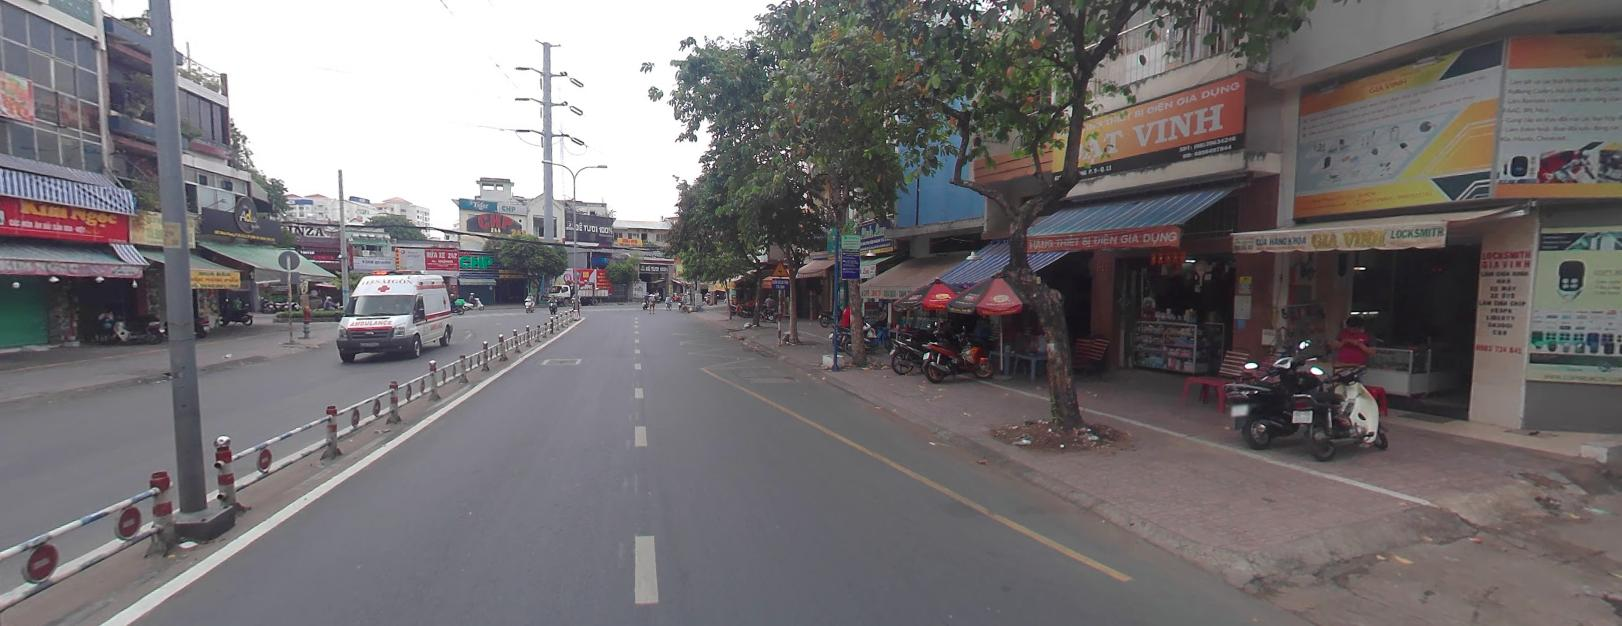Nguy hiem: (770, 258, 789, 276), (771, 258, 789, 274)
